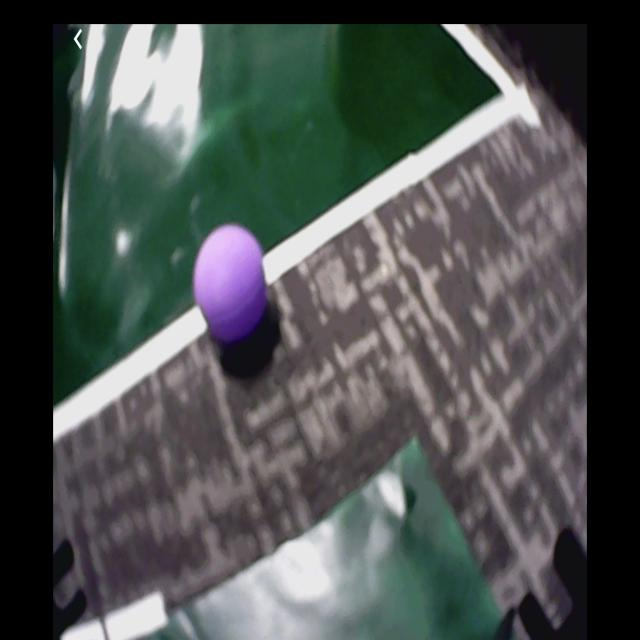ball: (194, 225, 268, 346)
